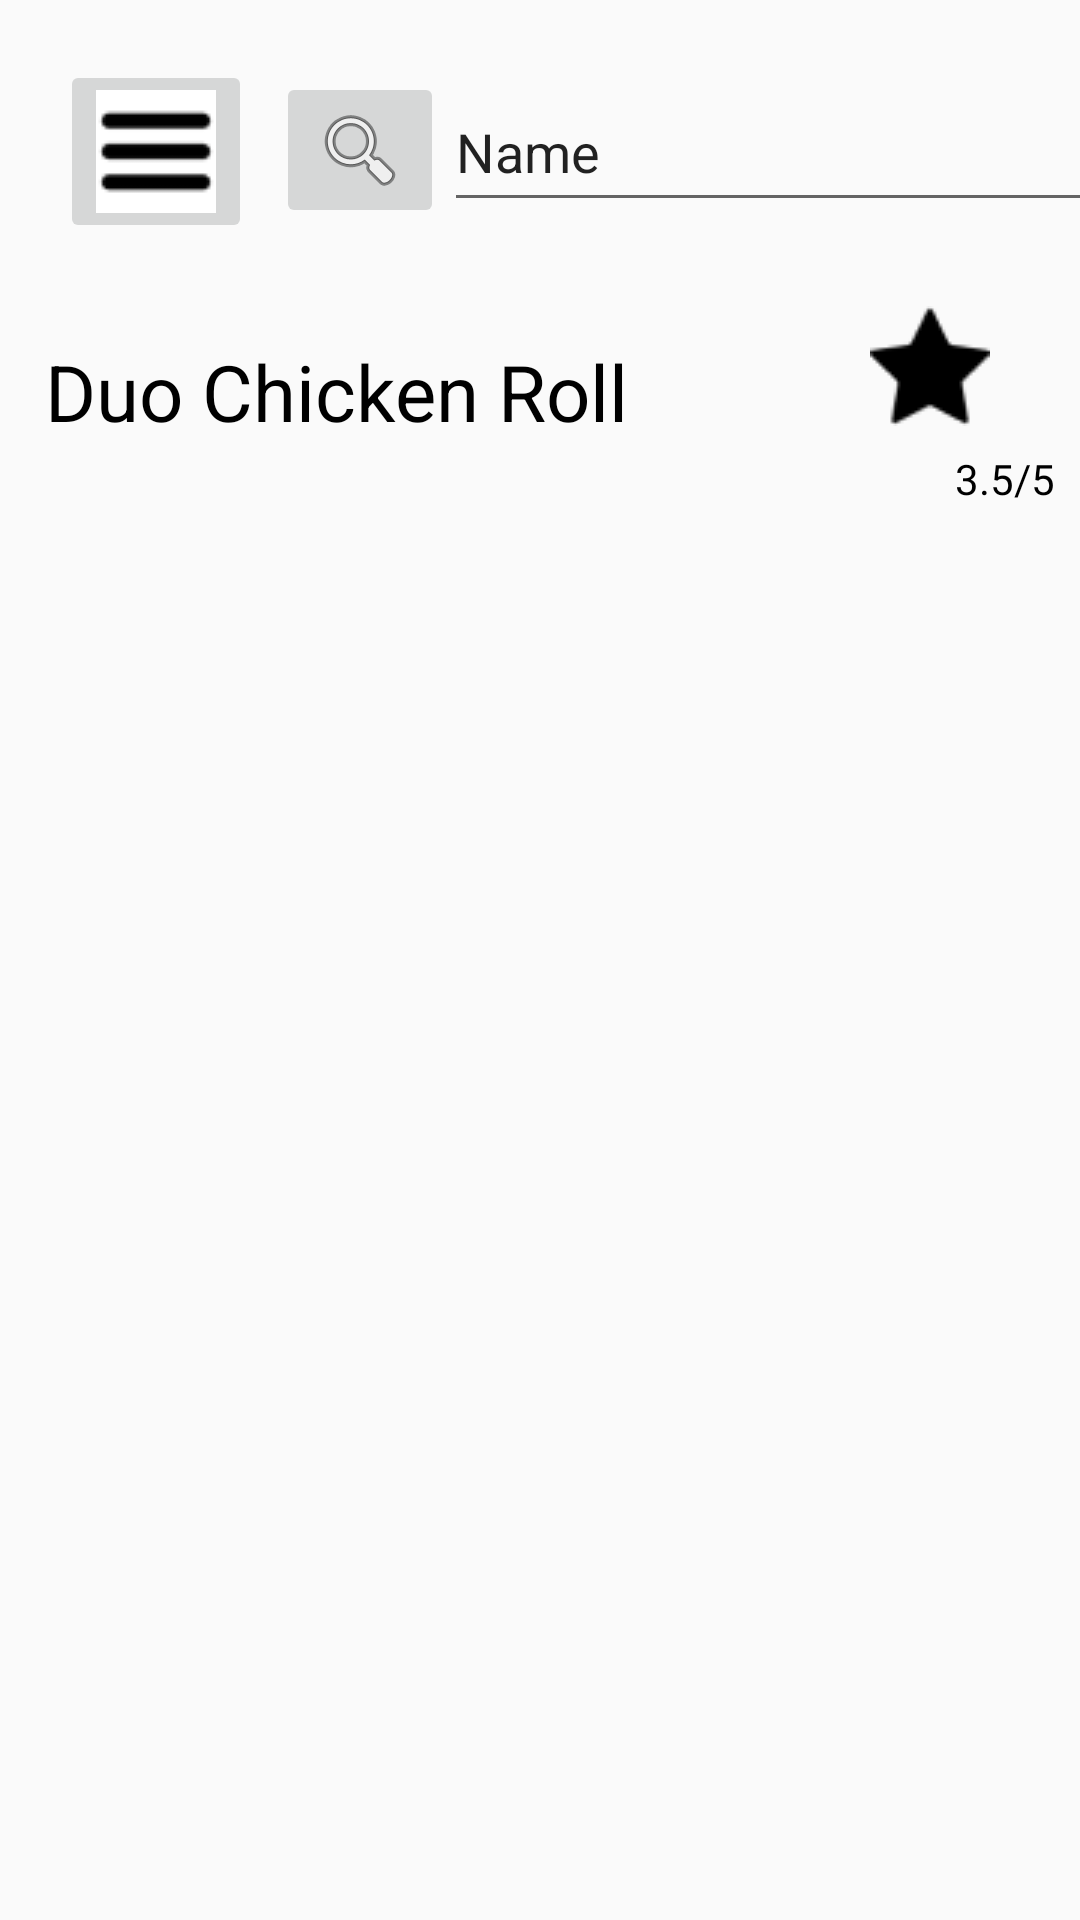

Icons on this 1080*1920 Android screen, each with the point to tap as [x,y]:
search: [360,150]
